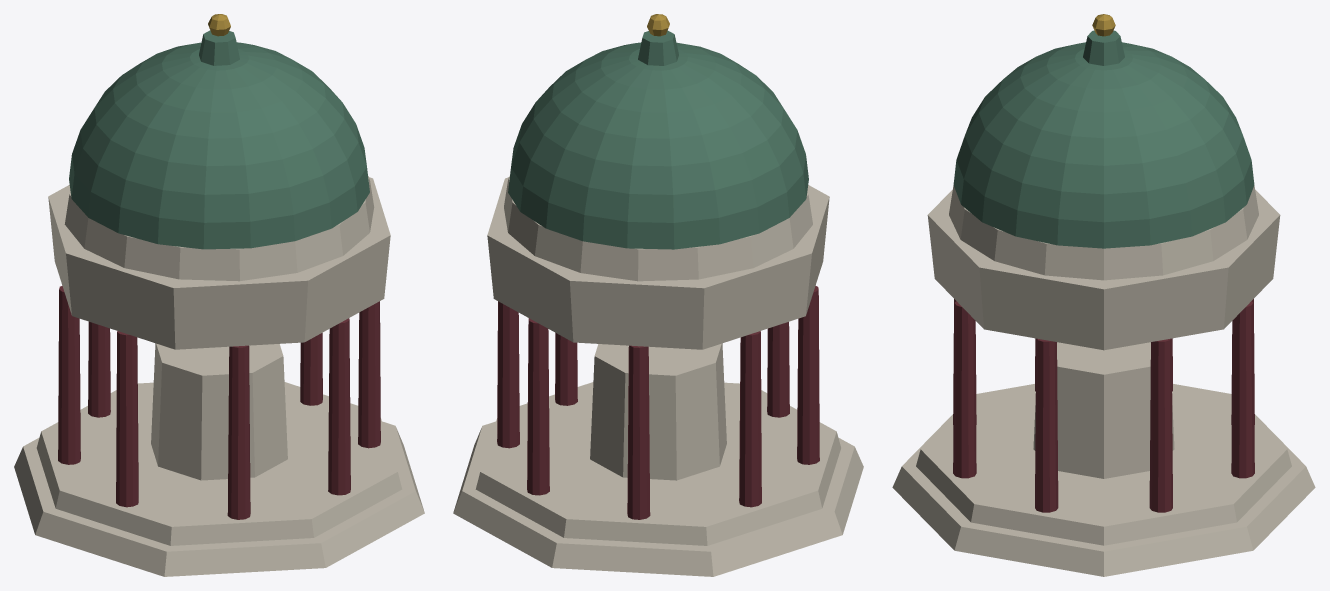
Rendered from almancesmesi.web.glb.
The picture shows the model from 3 angles, left to right: view 1: azimuth 30°, elevation 25°; view 2: azimuth 150°, elevation 25°; view 3: azimuth 270°, elevation 25°; orthographic projection.
Visible parts, largest first — view 1: almancesmesi; view 2: almancesmesi; view 3: almancesmesi.
Part boxes in pixels (left/top/right/bottom): almancesmesi: left=14, top=14, right=424, bottom=576; almancesmesi: left=453, top=14, right=863, bottom=576; almancesmesi: left=892, top=14, right=1315, bottom=576.
Size of the model in its own units: 9 by 11.1 by 9.
